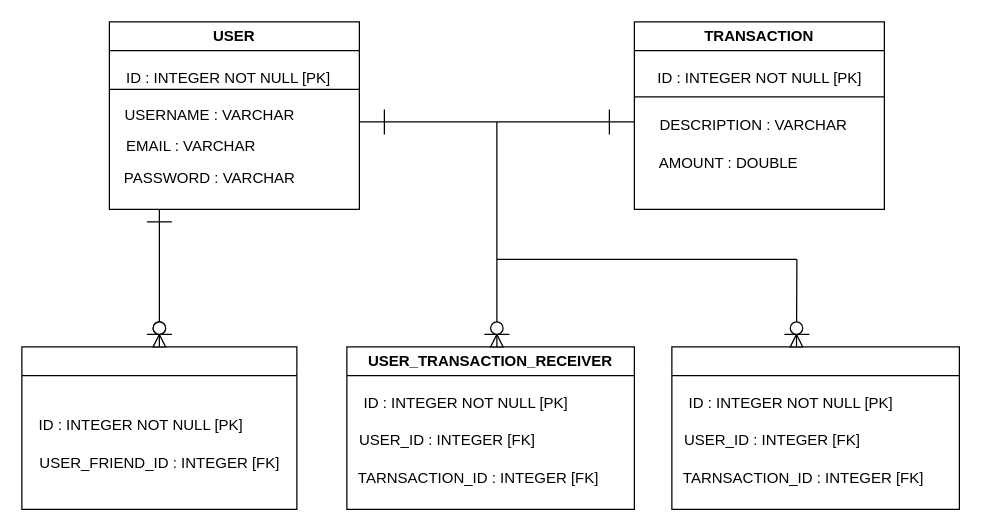
Image size: 981x531. Some labels were removed from this diagram. The shapes that lost their labels are listed below. From the top down, each one's box as (x1, y1, x2, y2) in pixels, then its label:
(21, 346, 297, 509): USER_FRIENDS
(671, 346, 959, 509): USER_TRANSACTION_SENDER
